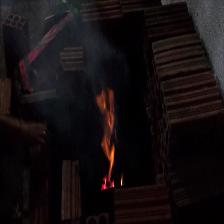fire: (96, 89, 123, 188)
